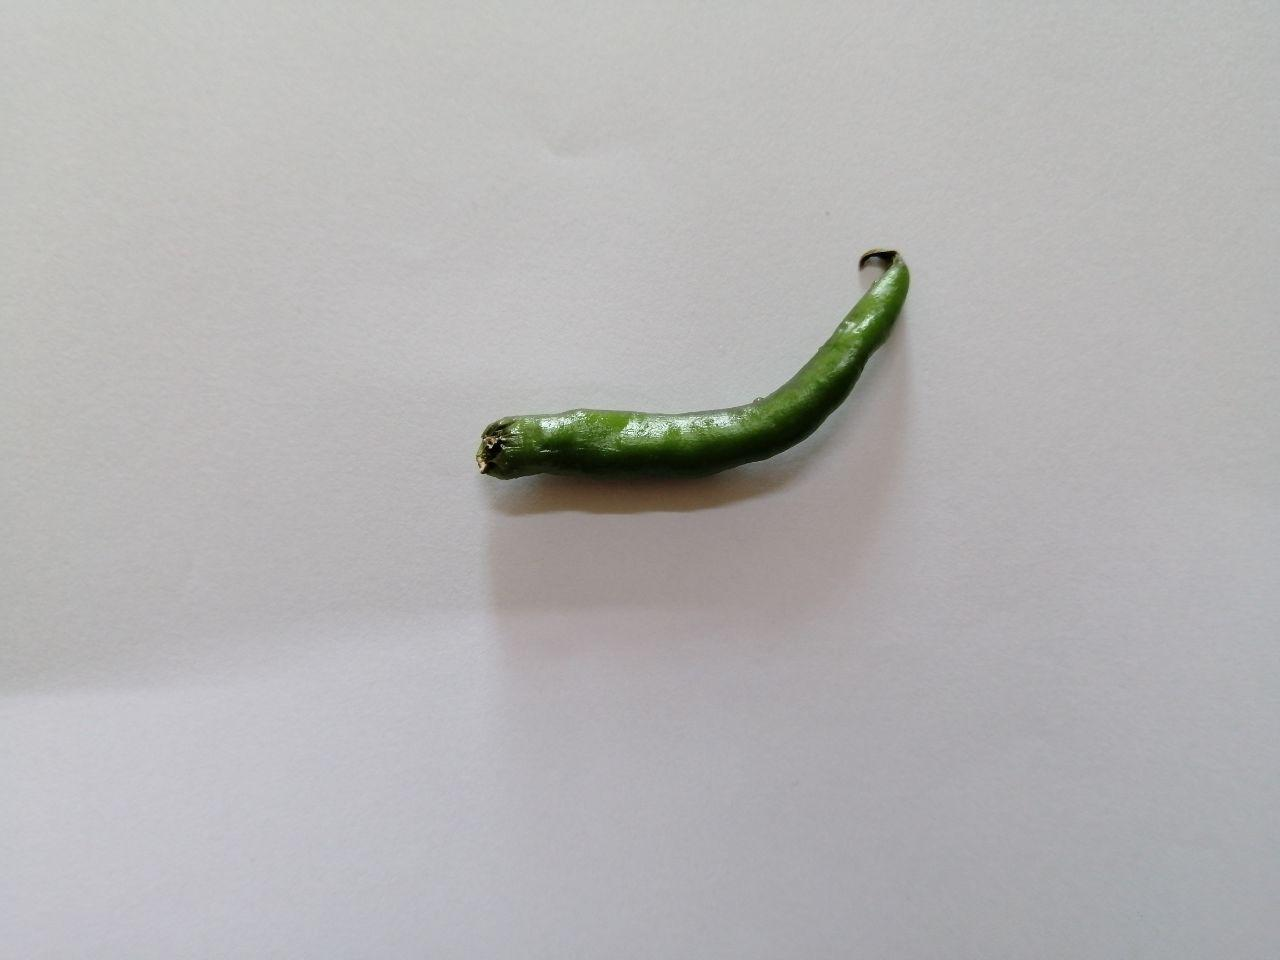lada hijau: (440, 224, 938, 546)
